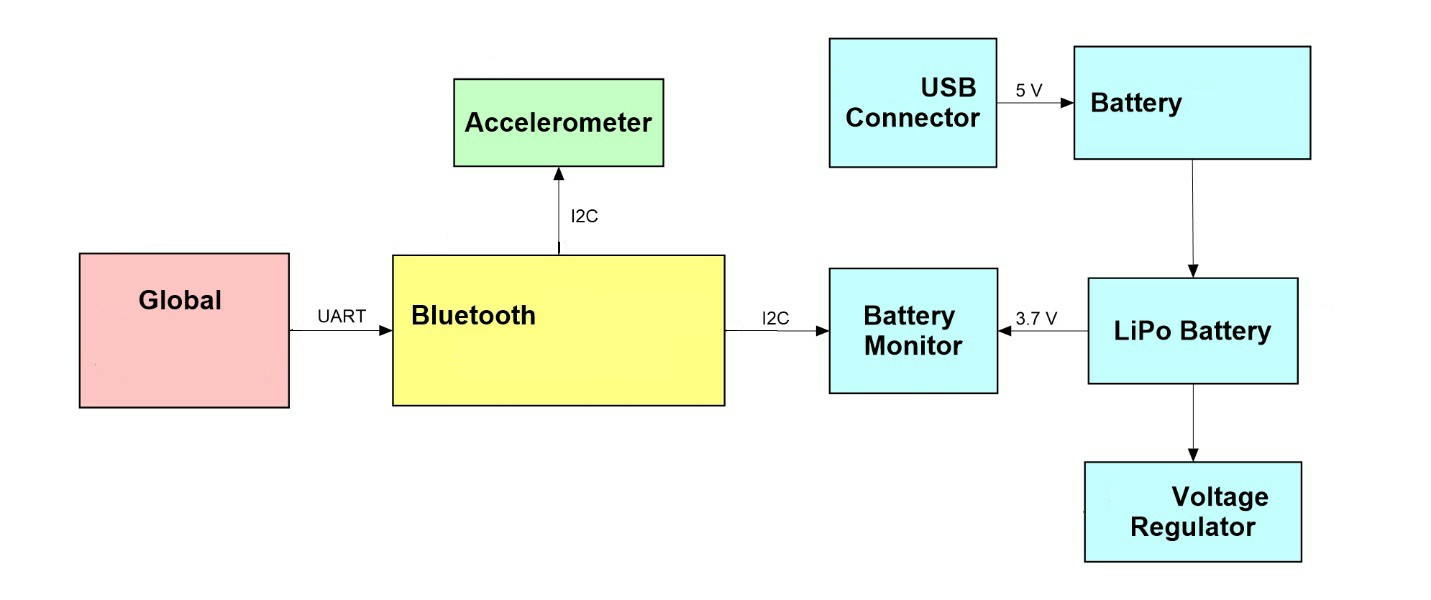arrow: (285, 317, 397, 340), (1183, 159, 1203, 282), (723, 319, 830, 340), (546, 163, 570, 256), (993, 319, 1095, 340), (996, 93, 1077, 112), (1183, 379, 1200, 463)
process: (386, 249, 733, 416), (72, 246, 296, 416), (1069, 39, 1317, 166), (1082, 272, 1305, 389), (1076, 456, 1307, 567), (823, 32, 1003, 173), (825, 263, 1005, 400), (449, 73, 672, 175)
text: (843, 69, 987, 135), (1126, 479, 1272, 539), (462, 105, 659, 142), (859, 299, 969, 359), (1107, 315, 1277, 349), (406, 296, 537, 330), (1086, 87, 1189, 122), (130, 283, 227, 313), (312, 303, 372, 329), (1012, 306, 1065, 327), (756, 303, 796, 329), (1009, 79, 1049, 97), (567, 206, 602, 226)
